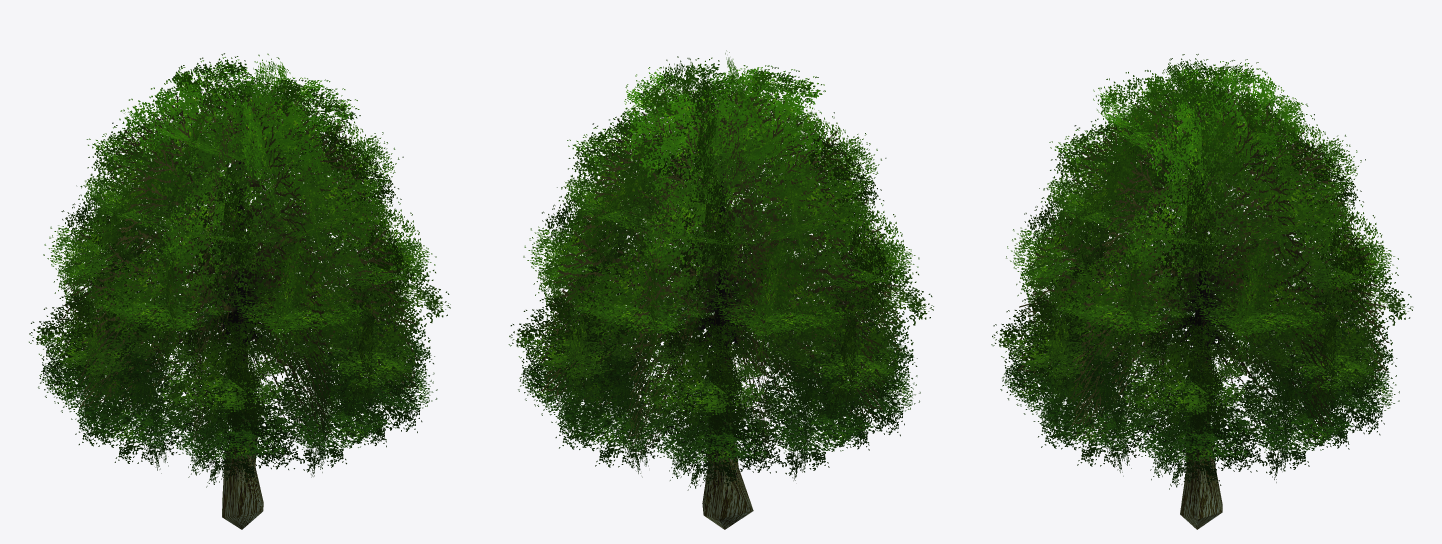
3 renders of one model, left to right at view 1: azimuth 30°, elevation 25°; view 2: azimuth 150°, elevation 25°; view 3: azimuth 270°, elevation 25°, orthographic.
Visible parts, largest first — view 1: es_2; view 2: es_2; view 3: es_2.
Boxes of the visible parts, x1,y1,x2,y2 form: es_2: [29, 53, 450, 529]; es_2: [508, 50, 933, 529]; es_2: [991, 54, 1413, 529].
Bounding box in the file's own units: 1717 × 2049 × 1746.
